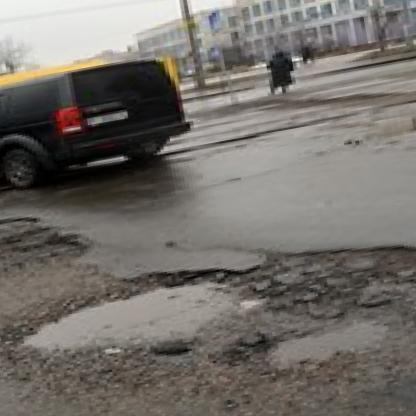pothole: (26, 270, 253, 371), (0, 213, 42, 248)
